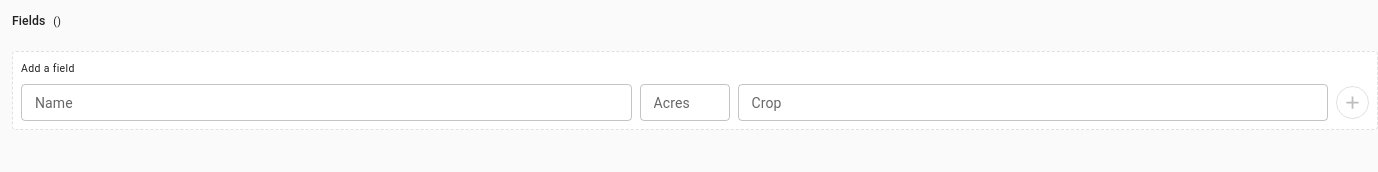
Test: FieldsForFarm › rejects non-numeric acres with an inline error
Type "F" into the field labelled "Name".
click(326, 102); type("F")  # box [21,84,632,121]
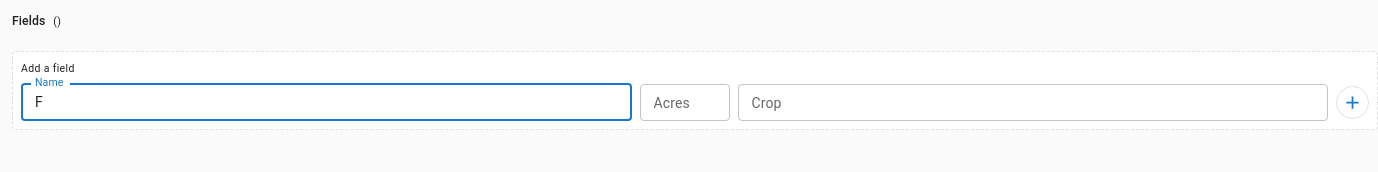
Type "lots" into the field labelled "Acres".
click(684, 102); type("lots")  # box [640,84,730,121]
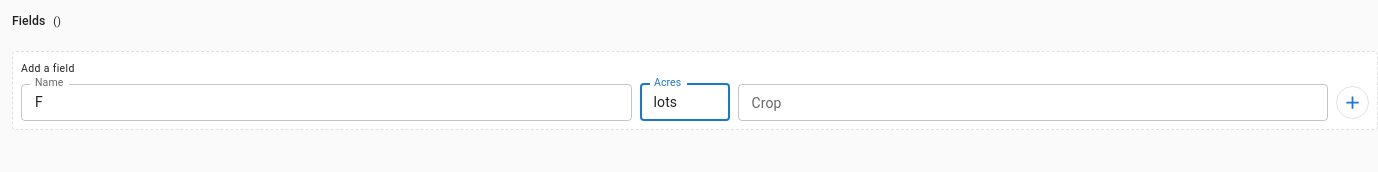
Click the button named "add field".
click(1352, 102)  # box [1336,86,1369,119]
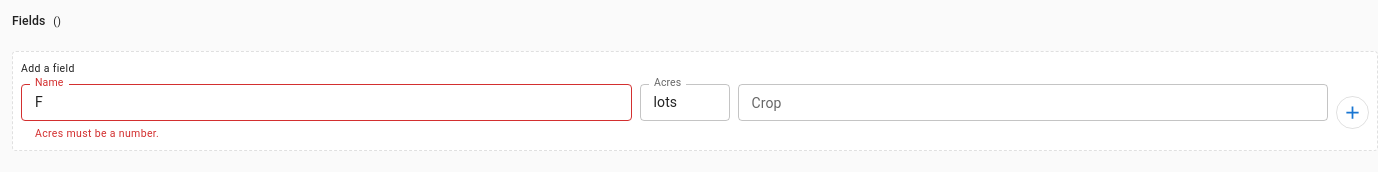
expect the text "Acres must be a number." is shown: met, box [35,127,159,140]
